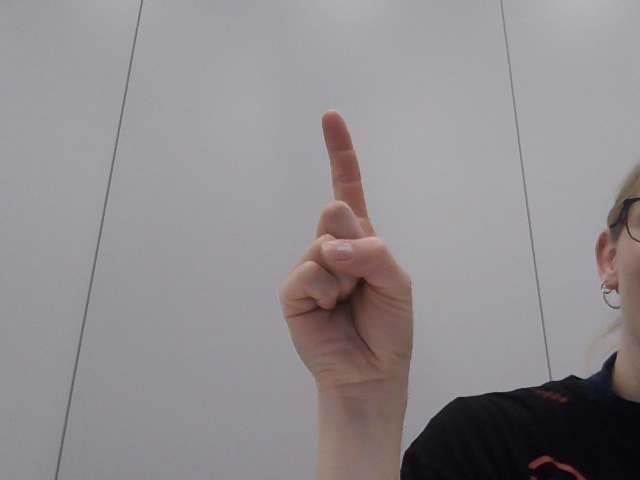up: (189, 101, 477, 389)
